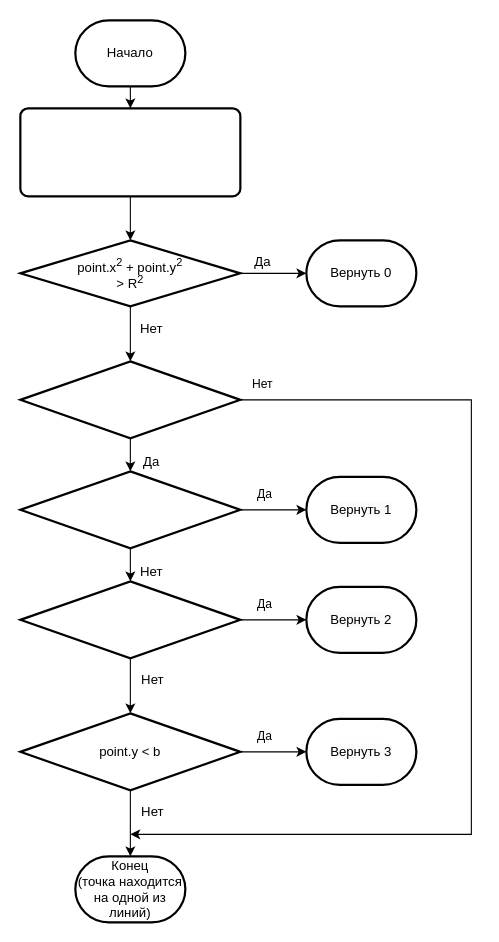
This 499x942 diagram has some shape labels left out. Here are the shapes that lost their labels. From the top down, the centre of each, then its label:
At (130,152): "Point2D point; short a; short b; unsigned short R;".
At (130,399): "point.x 2 + point.y 2 < R 2".
At (130,509): "point.y > a".
At (130,619): "point.y < a И point.y > b".
